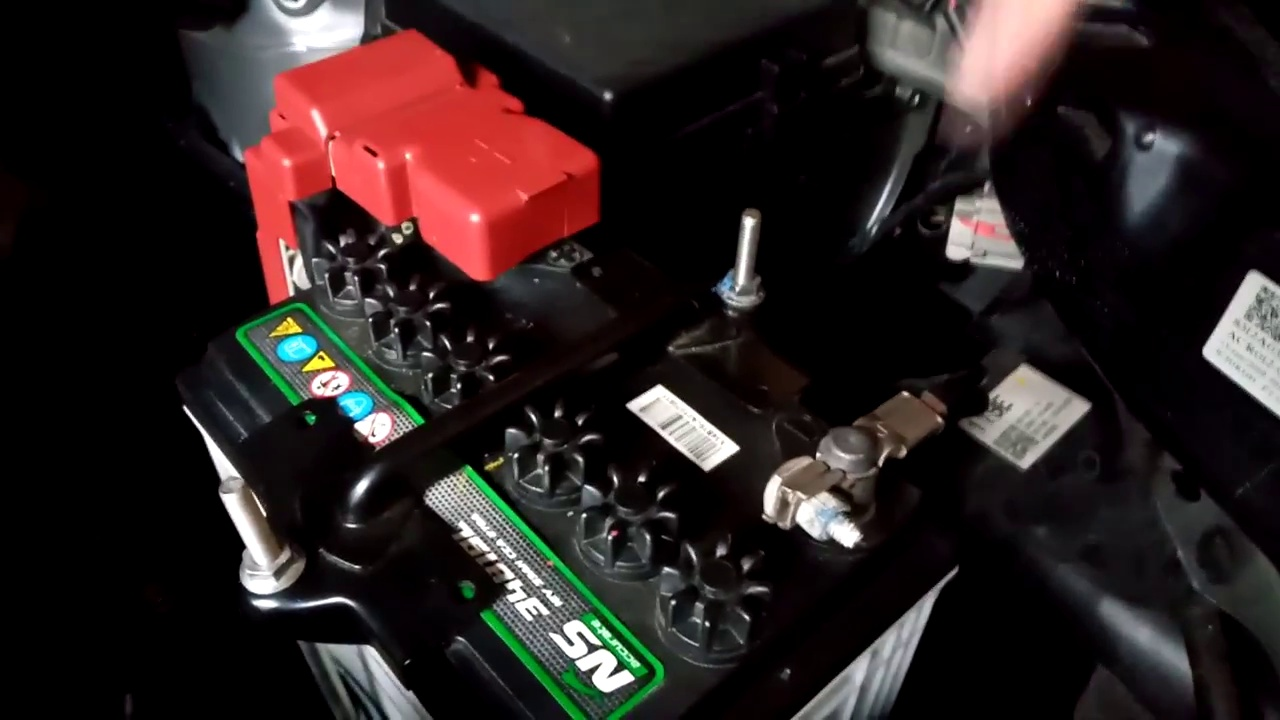battery: (232, 88, 937, 698)
neg_connected: (751, 383, 944, 574)
pos_connected: (235, 35, 628, 292)
